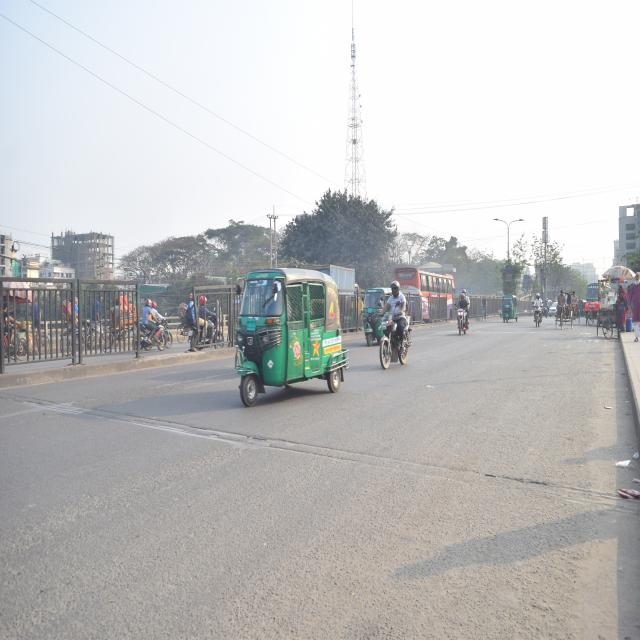bus: (587, 279, 599, 303)
car: (548, 296, 560, 322)
motorbike: (372, 287, 412, 378), (184, 303, 224, 357), (138, 308, 174, 359), (453, 296, 472, 339), (528, 296, 544, 330), (544, 300, 550, 322)
